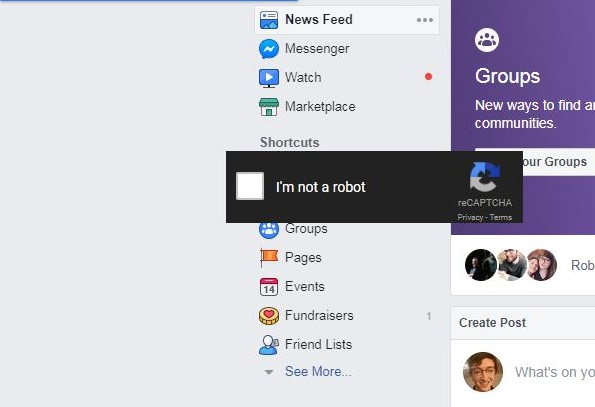captcha: (235, 171, 367, 201)
